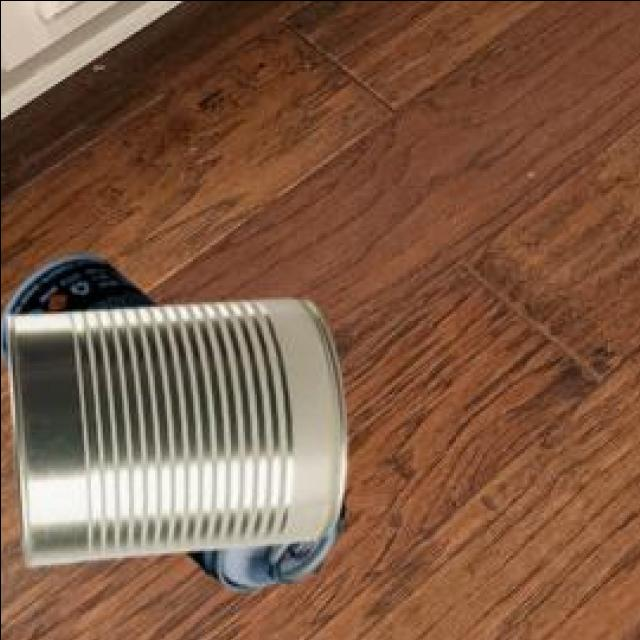logam: (0, 250, 340, 587), (1, 295, 343, 561)
